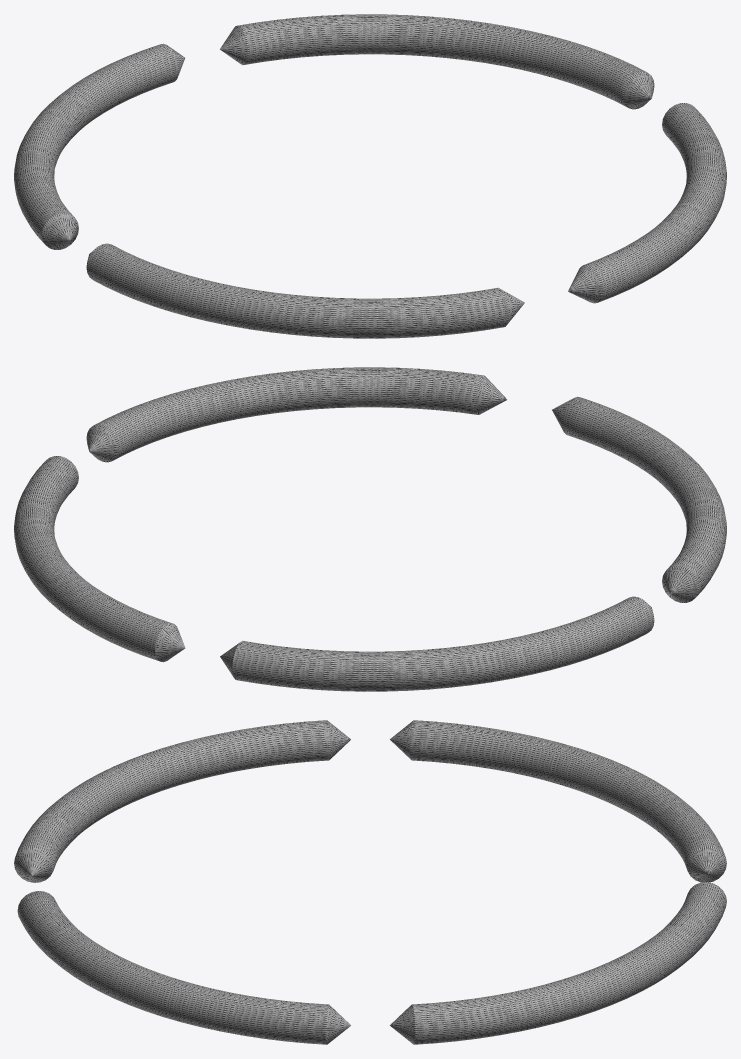
Rendered from RingFour.gltf.
3 views of the same model, one above another, from view 1: azimuth 30°, elevation 25°; view 2: azimuth 150°, elevation 25°; view 3: azimuth 270°, elevation 25° (orthographic).
Parts seen in each view (by area): view 1: Object 3; view 2: Object 3; view 3: Object 3.
Part boxes in pixels (x1=…): Object 3: x1=14, y1=14, x2=726, y2=338; Object 3: x1=14, y1=367, x2=726, y2=691; Object 3: x1=14, y1=720, x2=726, y2=1044.
Size of the model in its own units: 0.1052 by 0.006 by 0.1052.
1 material, 1 textured.
